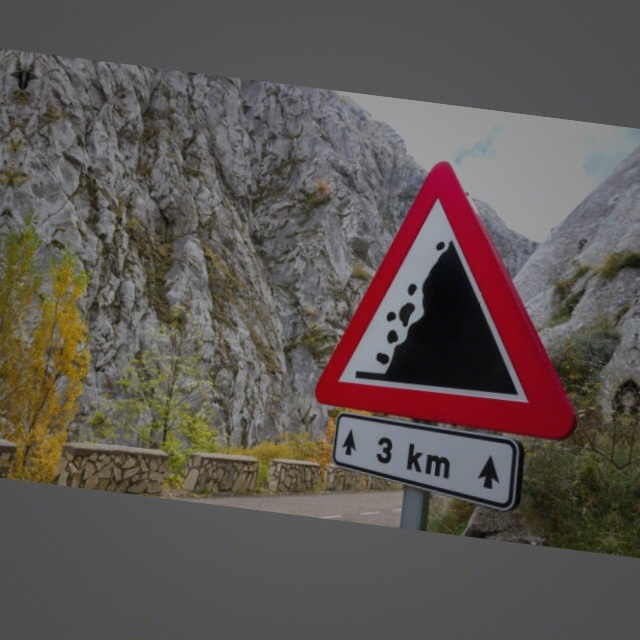Falling_Rocks: (306, 150, 600, 441)
